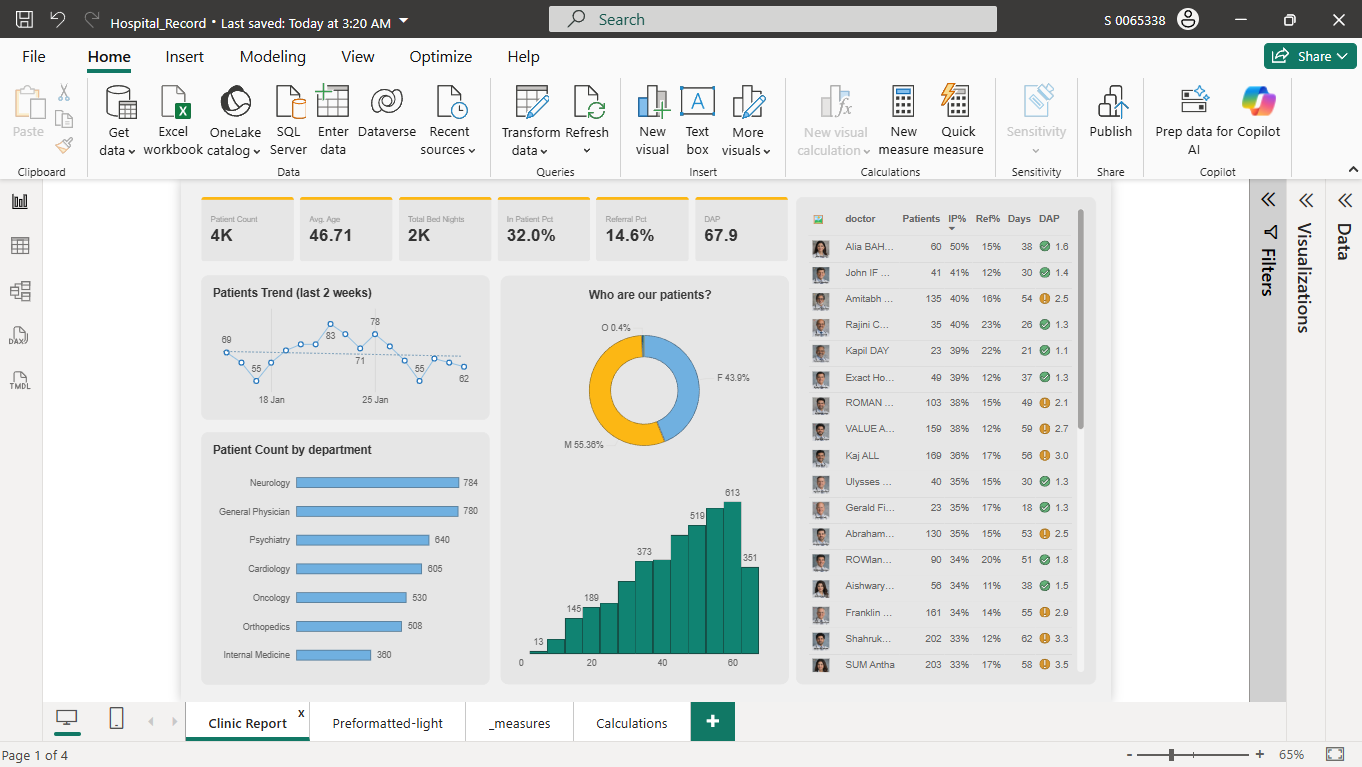

The page's visual inventory and layout, read from the dashboard file:
{"tool":"powerbi","page":{"name":"Clinic Report","canvas":[1280,720],"ordinal":0},"visuals":[{"type":"shape","box":[439,132,398,564],"z":0},{"type":"cardVisual","fields":{"Data":["patients.Patient Count","patients.Avg. Age","patients.Total Bed Days","patients.In Patient Pct","patients.Referral Pct","patients.DAP"]},"box":[27,25,810,89],"z":1000},{"type":"clusteredBarChart","fields":{"Category":["doctors.department"],"Y":["patients.Patient Count"]},"box":[27,348,397,348],"z":2000},{"type":"tableEx","fields":{"Values":["doctors.png_img","doctors.doctor","patients.Patient Count","patients.In Patient Pct","patients.Referral Pct","patients.Days with Patients","patients.DAP"]},"box":[847,25,413,671],"z":4000},{"type":"lineChart","title":"Patients Trend (last 2 weeks)","fields":{"Category":["calendar.Date"],"Y":["patients.Patient Count"]},"box":[27,132,397,199],"z":6000},{"type":"donutChart","title":"Who are our Patients?","fields":{"Y":["patients.Patient Count"],"Series":["patients.Gender"]},"box":[456,191,363,200],"z":8000},{"type":"clusteredColumnChart","fields":{"Category":["patients.Age (bins)"],"Y":["patients.Patient Count"]},"box":[456,414,363,264],"z":9000}]}

Visuals, with their boxes on the page's 1280x720 design canvas (x1, y1, x2, y2). These are canvas units, not pixel positions in the 1362x767 screenshot, which may show the page scaled, cropped or inside an application window:
shape: l=439, t=132, r=837, b=696
cardVisual - patients.Patient Count x patients.Avg. Age: l=27, t=25, r=837, b=114
clusteredBarChart - doctors.department x patients.Patient Count: l=27, t=348, r=424, b=696
tableEx - doctors.png_img x doctors.doctor: l=847, t=25, r=1260, b=696
"Patients Trend (last 2 weeks)" lineChart: l=27, t=132, r=424, b=331
"Who are our Patients?" donutChart: l=456, t=191, r=819, b=391
clusteredColumnChart - patients.Age (bins) x patients.Patient Count: l=456, t=414, r=819, b=678
